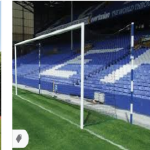goals: (14, 21, 120, 130)
